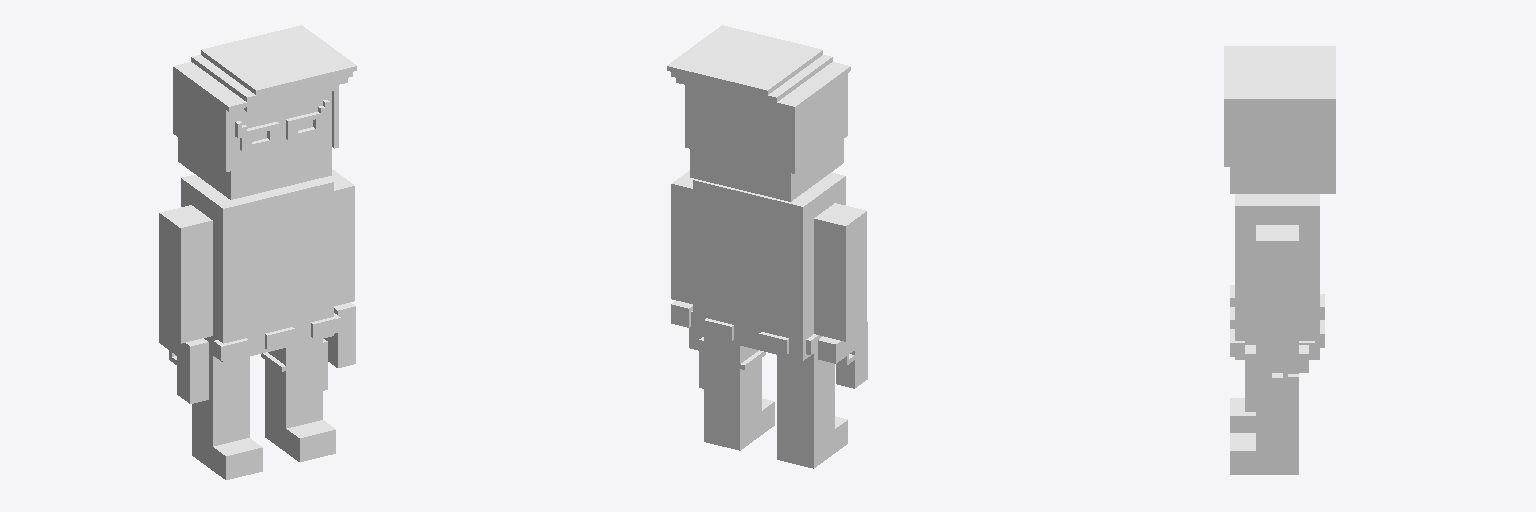
Rendered from RedHood2.obj.
The picture shows the model from 3 angles: view 1: azimuth 30°, elevation 25°; view 2: azimuth 150°, elevation 25°; view 3: azimuth 270°, elevation 25°; orthographic projection.
Visible parts, largest first — view 1: object 1; view 2: object 1; view 3: object 1.
Part boxes in pixels (x1,y1,x2,y2): object 1: (159,25,356,479); object 1: (667,25,867,468); object 1: (1224,46,1335,474).
Size of the model in its own units: 3.8 by 8 by 2.1.